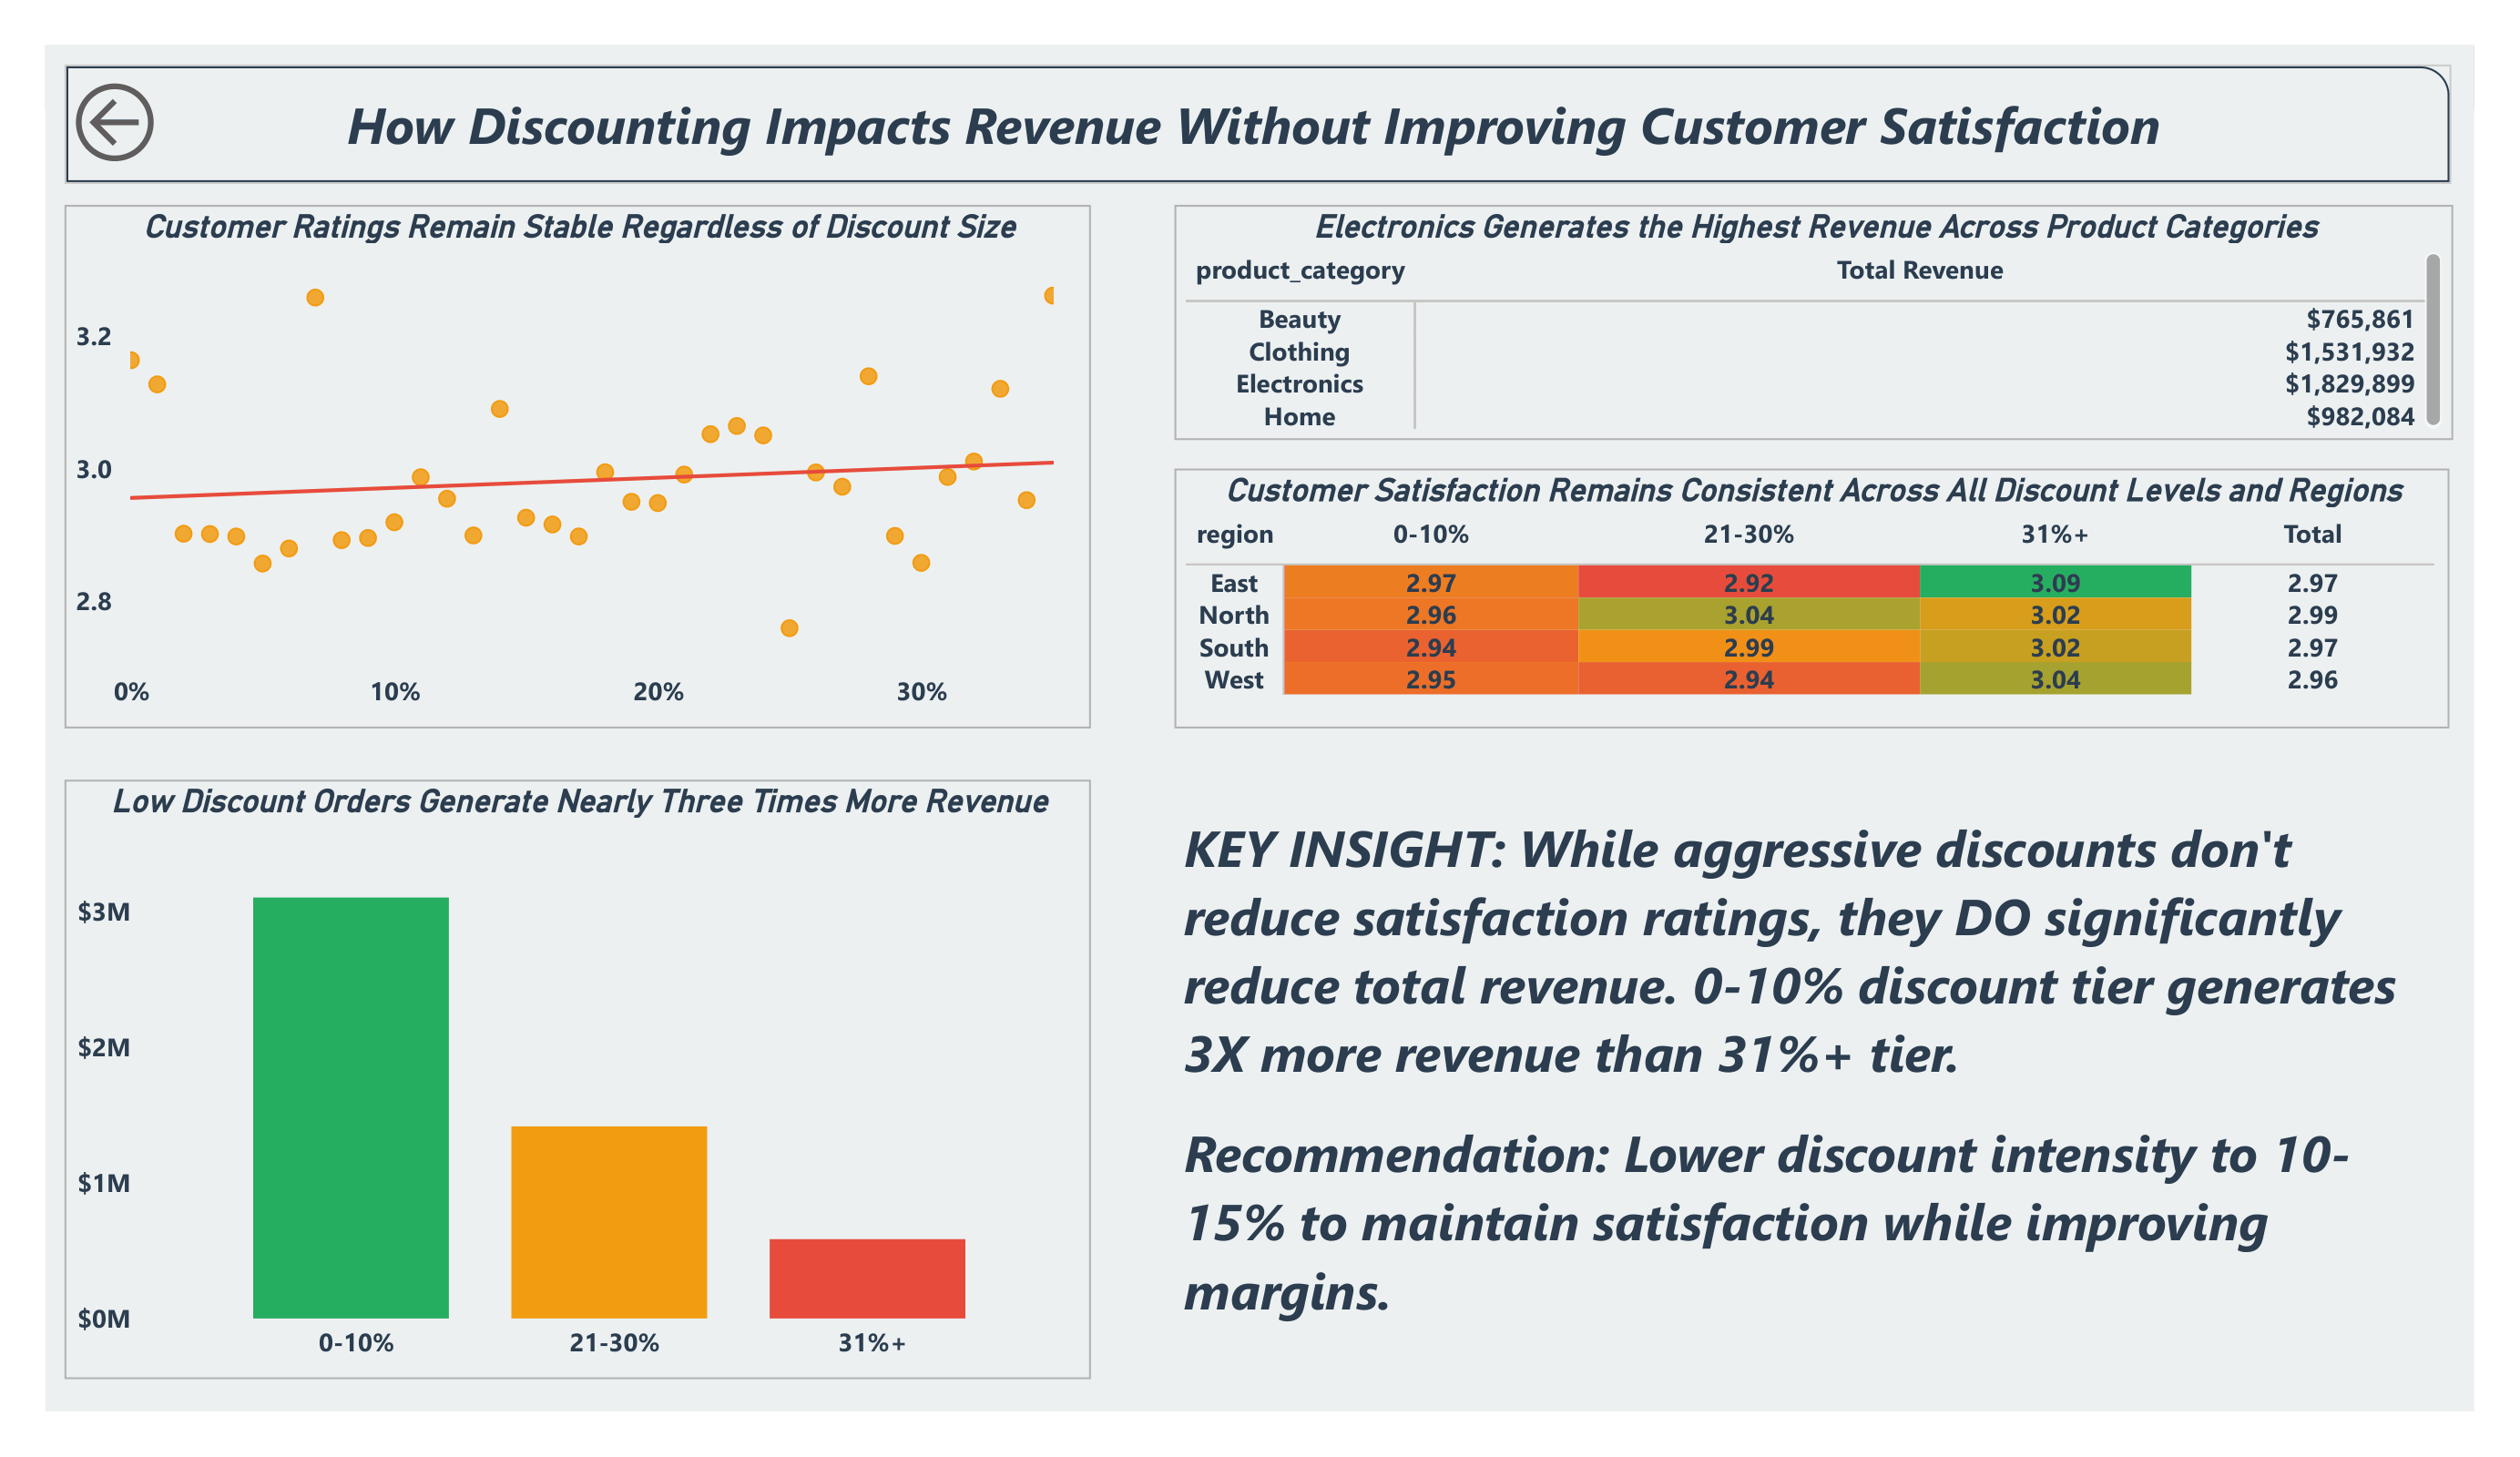

Layout of this report page (visuals, bound fields, positions):
{"tool":"powerbi","page":{"name":"Discount Strategy Analysis","canvas":[1280,720],"ordinal":1},"visuals":[{"type":"shape","box":[10.4,10.4,1257.7,62.5],"z":0},{"type":"scatterChart","title":"Customer Ratings Remain Stable Regardless of Discount Size","fields":{"X":["ecommerce_sales_analytics_5000.discount"],"Y":["Avg(ecommerce_sales_analytics_5000.customer_rating)"]},"box":[9.9,83.6,541.4,276.4],"z":1000},{"type":"columnChart","title":"Low Discount Orders Generate Nearly Three Times More Revenue","fields":{"Category":["ecommerce_sales_analytics_5000.Discount Catagory"],"Y":["Basic Metrics.Total Revenue"]},"box":[9.9,386.9,541.4,316.1],"z":2000},{"type":"pivotTable","title":"Customer Satisfaction Remains Consistent Across All Discount Levels and Regions","fields":{"Rows":["ecommerce_sales_analytics_5000.region"],"Columns":["ecommerce_sales_analytics_5000.Discount Catagory"],"Values":["Avg(ecommerce_sales_analytics_5000.customer_rating)"]},"box":[595.3,222.5,671.8,137.5],"z":3000},{"type":"pivotTable","title":"Electronics Generates the Highest Revenue Across Product Categories","fields":{"Rows":["ecommerce_sales_analytics_5000.product_category"],"Values":["Basic Metrics.Total Revenue"]},"box":[595.3,83.6,673.2,124.7],"z":4000},{"type":"textbox","box":[594.8,398.6,673,321.9],"z":5000},{"type":"actionButton","box":[9.9,14.2,100.6,52.4],"z":6000}]}

Visuals, with their boxes on the page's 1280x720 design canvas (x1, y1, x2, y2). These are canvas units, not pixel positions in the 2520x1457 screenshot, which may show the page scaled, cropped or inside an application window:
shape: x1=10 y1=10 x2=1268 y2=73
"Customer Ratings Remain Stable Regardless of Discount Size" scatterChart: x1=10 y1=84 x2=551 y2=360
"Low Discount Orders Generate Nearly Three Times More Revenue" columnChart: x1=10 y1=387 x2=551 y2=703
"Customer Satisfaction Remains Consistent Across All Discount Levels and Regions" pivotTable: x1=595 y1=222 x2=1267 y2=360
"Electronics Generates the Highest Revenue Across Product Categories" pivotTable: x1=595 y1=84 x2=1268 y2=208
textbox: x1=595 y1=399 x2=1268 y2=720
actionButton: x1=10 y1=14 x2=110 y2=67
